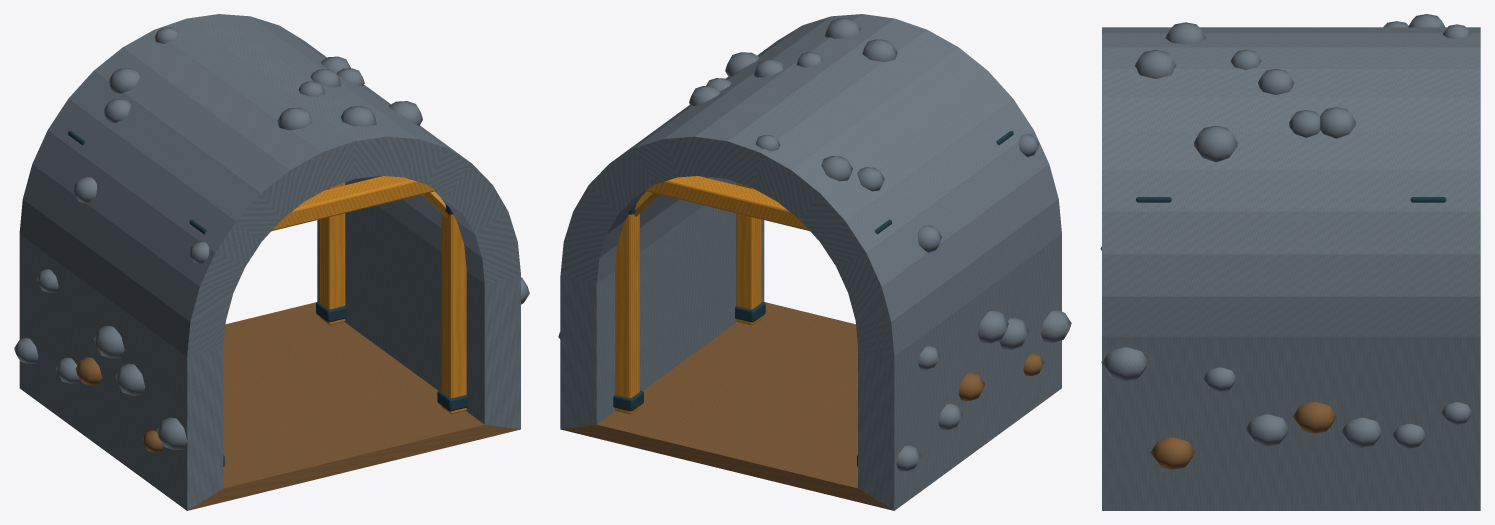
File: Building_Tunnel_RockStraight4m_001.glb
The picture shows the model from 3 angles, left to right: view 1: azimuth 30°, elevation 25°; view 2: azimuth 150°, elevation 25°; view 3: azimuth 270°, elevation 25°; orthographic projection. The views are drawn at different scales.
Visible parts, largest first — view 1: RockStraight4m_WallsFloor, RockStraight4m_Roof; view 2: RockStraight4m_WallsFloor, RockStraight4m_Roof; view 3: RockStraight4m_Roof, RockStraight4m_WallsFloor.
Part boxes in pixels (bbox=[...]): RockStraight4m_WallsFloor: bbox=[14, 130, 529, 510]; RockStraight4m_Roof: bbox=[19, 14, 520, 356]; RockStraight4m_WallsFloor: bbox=[558, 131, 1071, 510]; RockStraight4m_Roof: bbox=[560, 14, 1061, 356]; RockStraight4m_Roof: bbox=[1102, 14, 1480, 336]; RockStraight4m_WallsFloor: bbox=[1100, 197, 1480, 510].
Bounding box in the file's own units: 5.08 × 4.46 × 4.02.
Materials: 1 (1 with a texture image).
